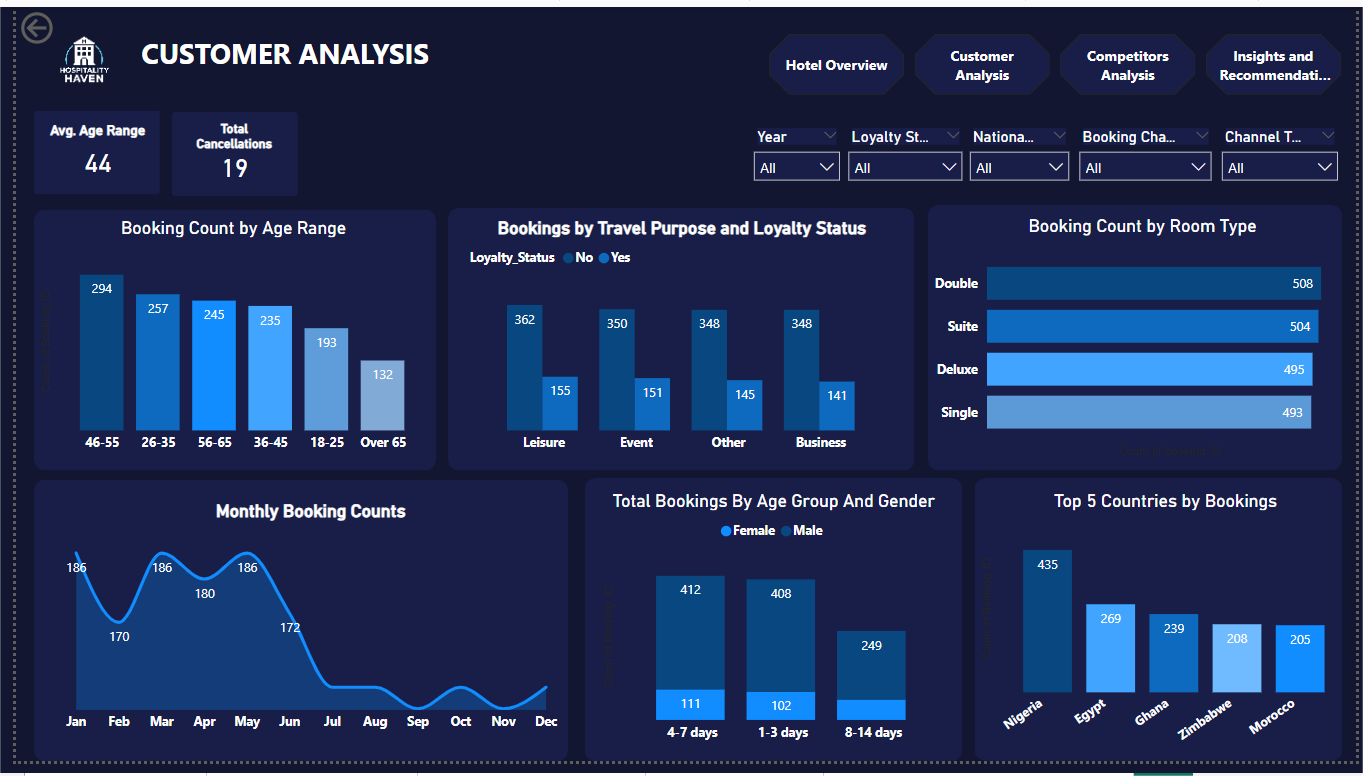

This screenshot's page, from the dashboard's own definition file:
{"tool":"powerbi","page":{"name":"Customer Analysis","canvas":[1280,720],"ordinal":1},"visuals":[{"type":"shape","box":[149,100.3,120.3,80.2],"z":0},{"type":"shape","box":[17.2,98.8,120.3,80.2],"z":1000},{"type":"shape","box":[542.9,449.8,361,270.7],"z":2000},{"type":"shape","box":[914.7,449.8,351.5,270.2],"z":3000},{"type":"shape","box":[17.2,451.2,509.9,269.3],"z":4000},{"type":"shape","box":[870.9,189.1,395.3,253.5],"z":5000},{"type":"shape","box":[412.5,191.9,445.5,250.7],"z":6000},{"type":"shape","box":[17.2,193.4,383.9,249.2],"z":7000},{"type":"stackedAreaChart","title":" Monthly Booking Counts","fields":{"Category":["DateTable.Month Name"],"Y":["CountNonNull(Bookingtable.Booking_ID)"]},"box":[35.9,470.6,491.3,228.7],"z":8000},{"type":"actionButton","box":[0,0,100,40],"z":9000},{"type":"columnChart","title":"Top 5 Countries by Bookings","fields":{"Category":["Customertable.Nationality"],"Y":["CountNonNull(Bookingtable.Booking_ID)"]},"box":[914.7,461.1,364.7,258.9],"z":10000},{"type":"barChart","title":"Booking Count by Room Type","fields":{"Y":["CountNonNull(Bookingtable.Booking_ID)"],"Category":["Bookingtable.Room_Type"]},"box":[870.9,199.1,409.7,234.9],"z":11000},{"type":"columnChart","title":"Booking Count by Age Range","fields":{"Y":["CountNonNull(Bookingtable.Booking_ID)"],"Category":["Customertable.Age Range"]},"box":[17.2,200.5,381,233.5],"z":12000},{"type":"columnChart","title":"Total Bookings By Age Group And Gender","fields":{"Y":["CountNonNull(Bookingtable.Booking_ID)"],"Category":["Bookingtable.Stay Duration Category"],"Series":["Customertable.Gender"]},"box":[554.3,461.2,338,249.2],"z":13000},{"type":"clusteredColumnChart","title":"Bookings by Travel Purpose and Loyalty Status","fields":{"Category":["Customertable.Travel_Purpose"],"Series":["Customertable.Loyalty_Status"],"Y":["CountNonNull(Bookingtable.Booking_ID)"]},"box":[428.3,200.5,415.4,233.5],"z":14000},{"type":"card","title":"Avg. Age Range","fields":{"Values":["Avg(Customertable.Age)"]},"box":[25.8,110.3,104.6,60.2],"z":15000},{"type":"card","title":"Total Cancellations","fields":{"Values":["MeasuresTable.Cancellation Rate"]},"box":[156.1,108.9,104.6,60.2],"z":16000},{"type":"slicer","fields":{"Values":["Channeltable.Channel_Type"]},"box":[1141.6,110.3,130.3,68.8],"z":17000},{"type":"slicer","fields":{"Values":["Customertable.Nationality"]},"box":[901,110.3,114.6,68.8],"z":18000},{"type":"slicer","fields":{"Values":["Channeltable.Booking_Channel"]},"box":[1005.5,110.3,146.1,68.8],"z":19000},{"type":"slicer","fields":{"Values":["Customertable.Loyalty_Status"]},"box":[784.9,110.3,128.9,68.8],"z":20000},{"type":"slicer","fields":{"Values":["DateTable.Year"]},"box":[694.7,110.3,101.7,68.8],"z":21000},{"type":"textbox","box":[114.6,20.1,565.8,64.5],"z":22000},{"type":"pageNavigator","box":[719.1,25.8,547.2,58.7],"z":23000},{"type":"image","box":[30.2,15.9,70,68.4],"z":24000}]}

Visuals, with their boxes in screenshot pixels (x1, y1, x2, y2), scaled from the page's 1280x720 canvas onto the 1363x776 screenshot:
shape: <region>159, 108, 287, 195</region>
shape: <region>18, 106, 146, 193</region>
shape: <region>578, 485, 963, 775</region>
shape: <region>974, 485, 1348, 775</region>
shape: <region>18, 486, 561, 775</region>
shape: <region>927, 204, 1348, 477</region>
shape: <region>439, 207, 914, 477</region>
shape: <region>18, 208, 427, 477</region>
" Monthly Booking Counts" stackedAreaChart: <region>38, 507, 561, 754</region>
actionButton: <region>0, 0, 106, 43</region>
"Top 5 Countries by Bookings" columnChart: <region>974, 497, 1362, 775</region>
"Booking Count by Room Type" barChart: <region>927, 215, 1362, 468</region>
"Booking Count by Age Range" columnChart: <region>18, 216, 424, 468</region>
"Total Bookings By Age Group And Gender" columnChart: <region>590, 497, 950, 766</region>
"Bookings by Travel Purpose and Loyalty Status" clusteredColumnChart: <region>456, 216, 898, 468</region>
"Avg. Age Range" card: <region>27, 119, 139, 184</region>
"Total Cancellations" card: <region>166, 117, 278, 182</region>
slicer - Channeltable.Channel_Type: <region>1216, 119, 1354, 193</region>
slicer - Customertable.Nationality: <region>959, 119, 1081, 193</region>
slicer - Channeltable.Booking_Channel: <region>1071, 119, 1226, 193</region>
slicer - Customertable.Loyalty_Status: <region>836, 119, 973, 193</region>
slicer - DateTable.Year: <region>740, 119, 848, 193</region>
textbox: <region>122, 22, 725, 91</region>
pageNavigator: <region>766, 28, 1348, 91</region>
image: <region>32, 17, 107, 91</region>
